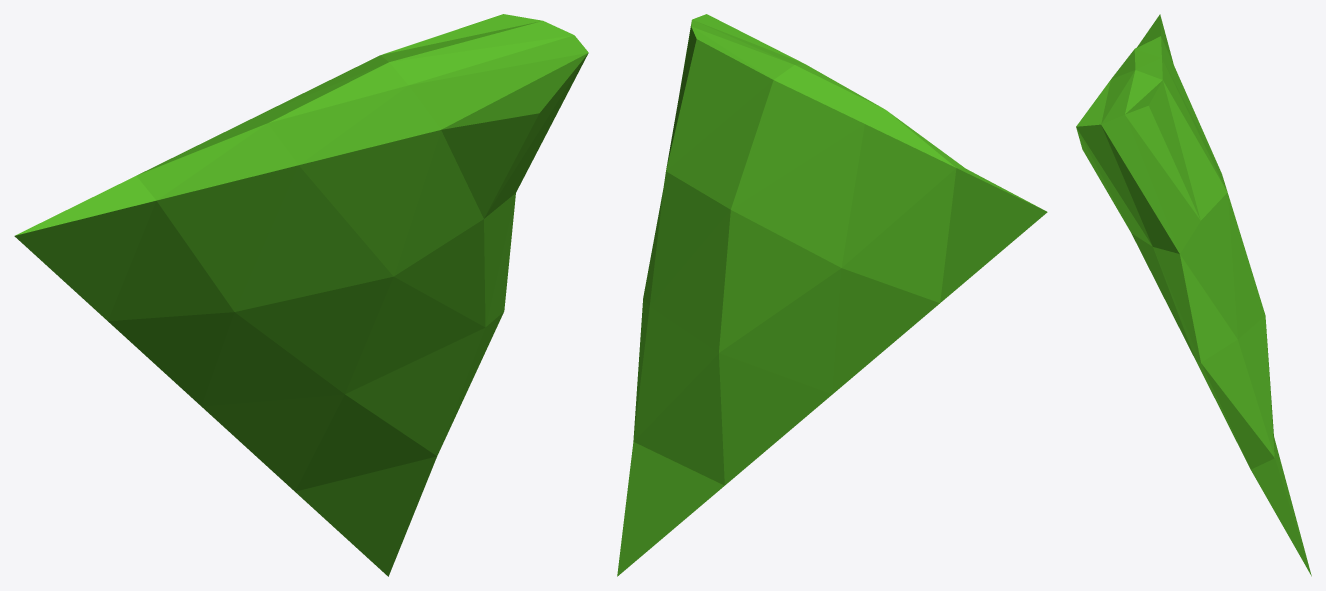
File: Leaf2.dae
3 renders of one model, left to right at view 1: azimuth 30°, elevation 25°; view 2: azimuth 150°, elevation 25°; view 3: azimuth 270°, elevation 25°, orthographic. The views are drawn at different scales.
Parts seen in each view (by area): view 1: Cone; view 2: Cone; view 3: Cone.
Boxes of the visible parts, bbox=[...] form: Cone: bbox=[14, 14, 588, 576]; Cone: bbox=[617, 14, 1047, 576]; Cone: bbox=[1076, 14, 1311, 576].
Size of the model in its own units: 0.5218 by 0.2789 by 0.6166.
